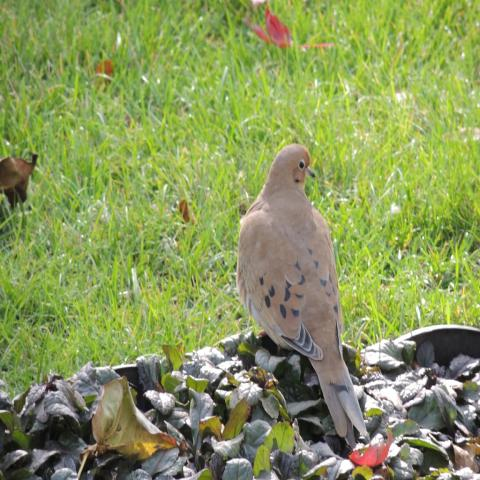bird: (234, 140, 370, 448)
